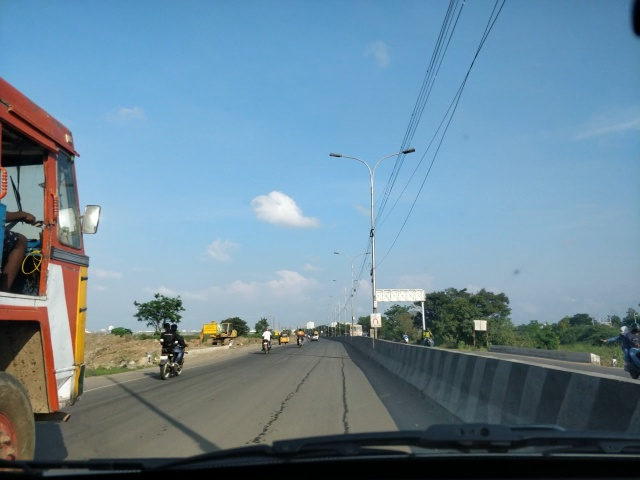auto: (281, 326, 292, 349)
bus: (344, 321, 363, 345)
motorbike: (601, 312, 639, 394), (158, 320, 200, 388), (256, 324, 278, 358), (417, 325, 436, 354), (295, 329, 309, 350)
truck: (1, 72, 97, 471)
truck crane: (202, 313, 244, 355)
